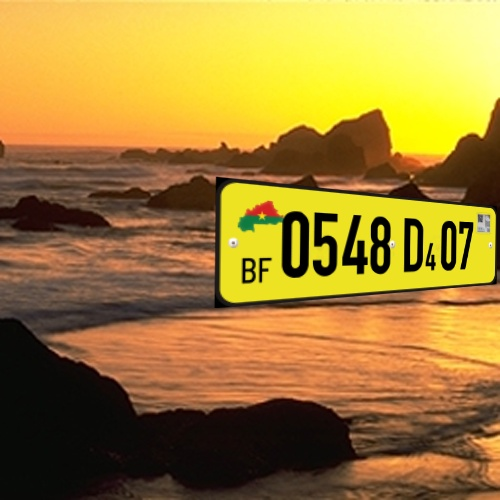plate: (204, 168, 500, 310)
